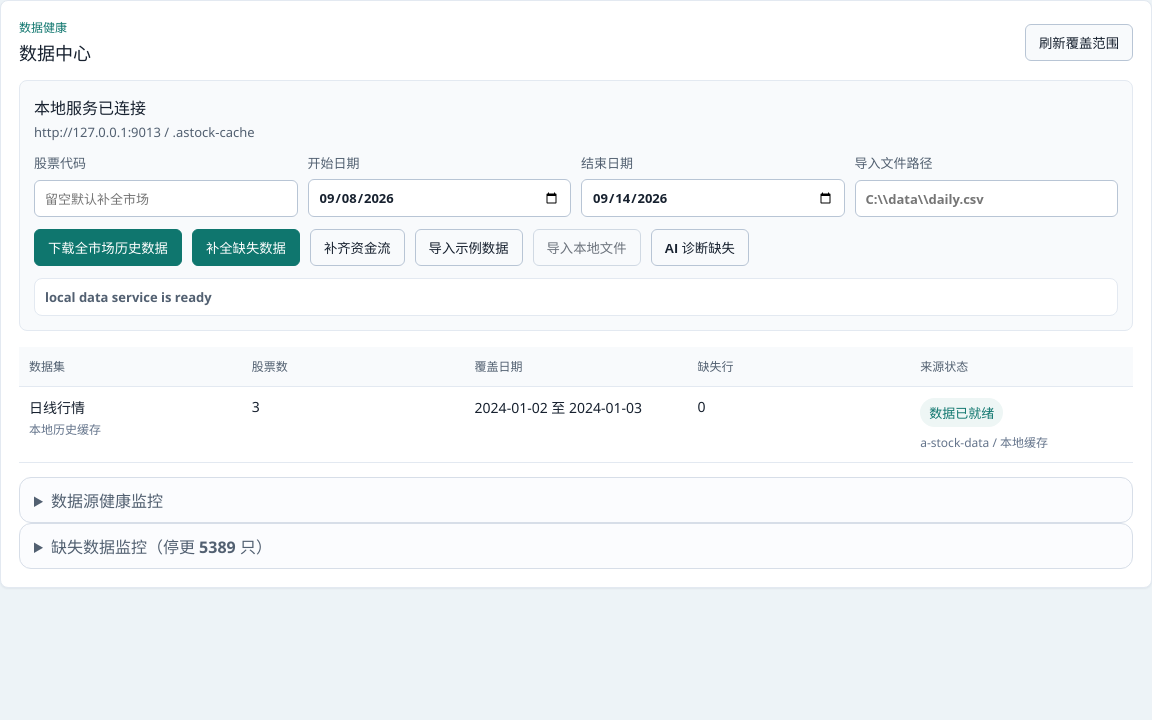
Test: DataCenter lifecycle badges › shows the source health card with realtime news finance rows
Expected: the text "http://127.0.0.1:9013 / .astock-cache" is shown, [34,123,254,141]
Click the heading "数据源健康监控": {"x": 107, "y": 501} [51,490,163,512]
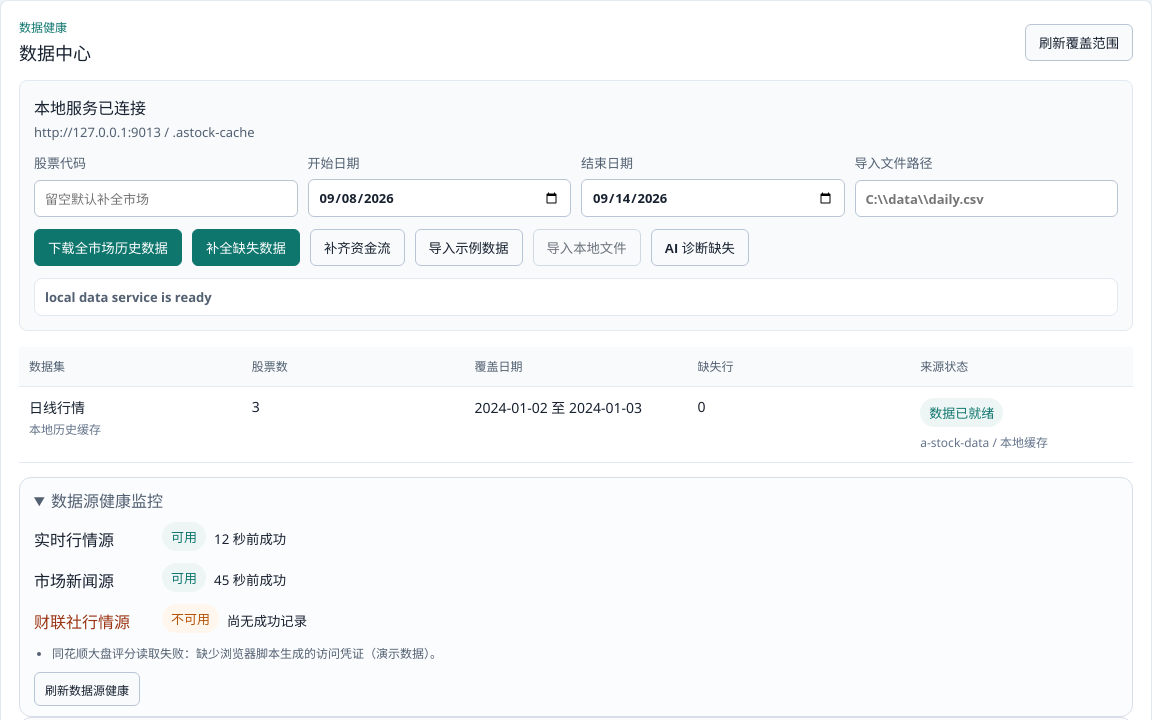
Expected: the text "实时行情源" is shown, [34,528,114,550]
Expected: the text "市场新闻源" is shown, [34,570,114,592]
Expected: the text "财联社行情源" is shown, [34,610,130,632]
